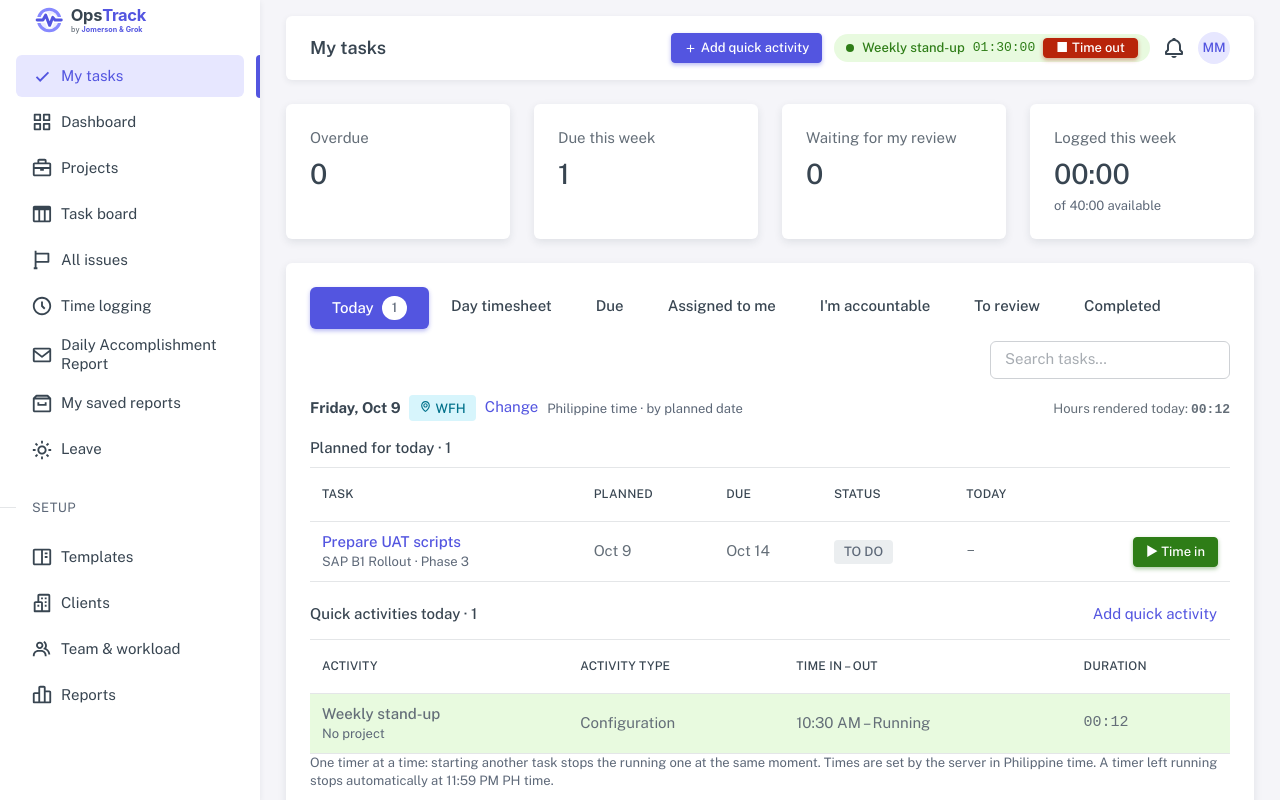
FR-ACT-26: Switch prompt › Cancel keeps the running timer and sends nothing
Click the button with aria-label "Time in on Prepare UAT scripts" at (1176, 552), box [1133,536,1218,566]
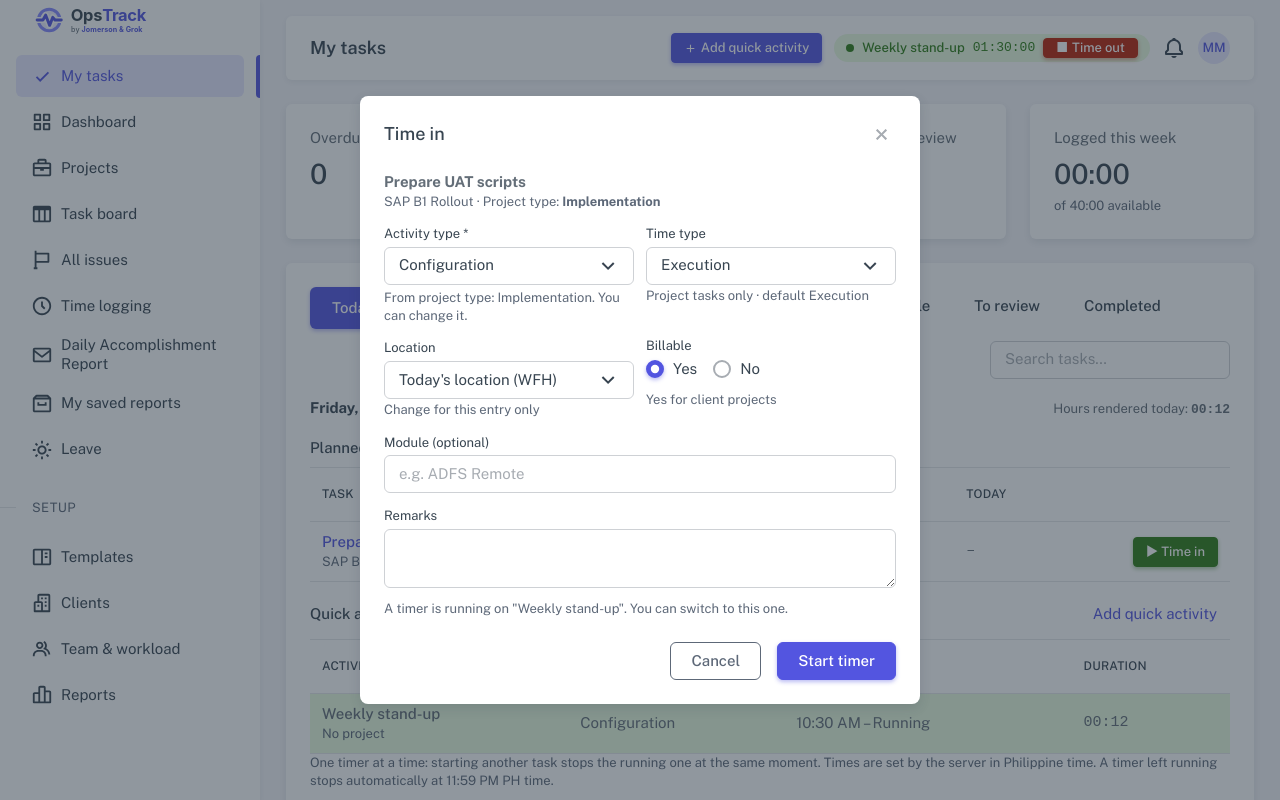
Click the button "Start timer" at (837, 661), box [777,642,896,680]
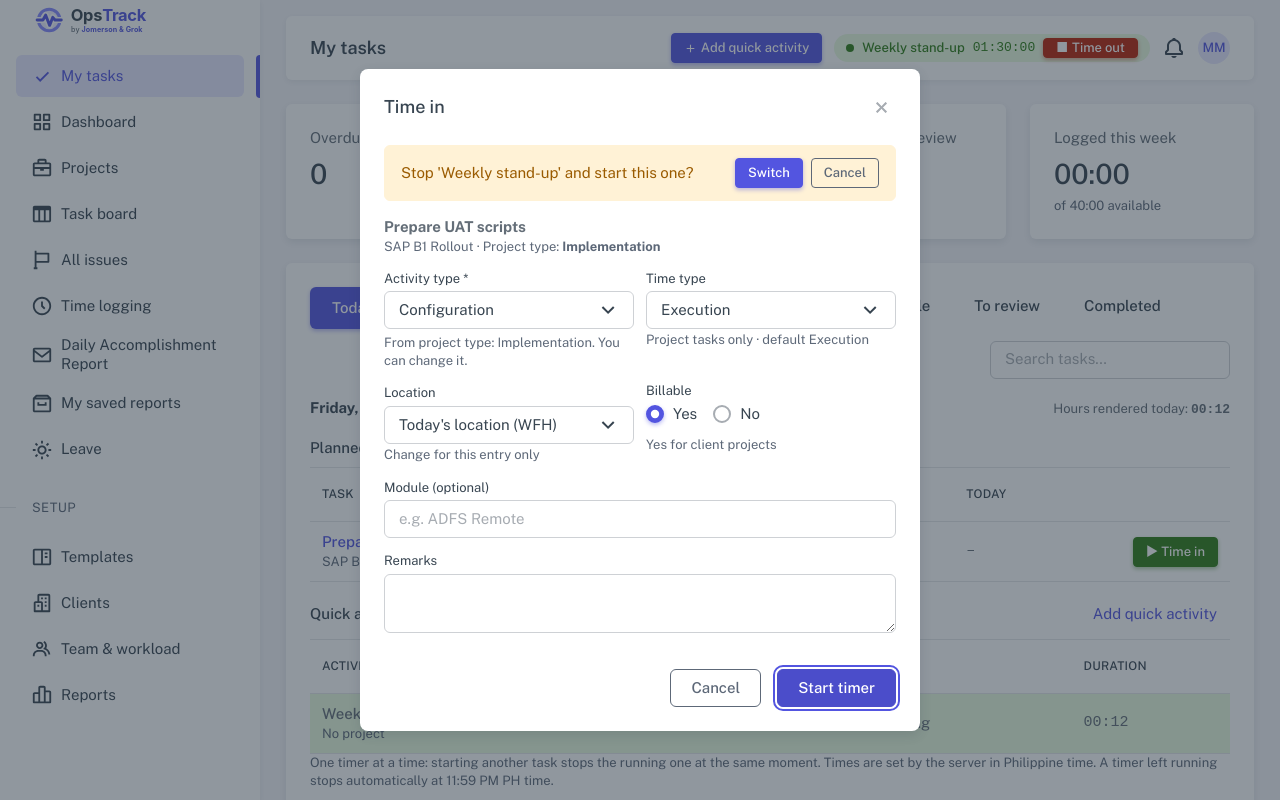
Click the 1st button "Cancel" at (845, 173), box [811,158,879,188]
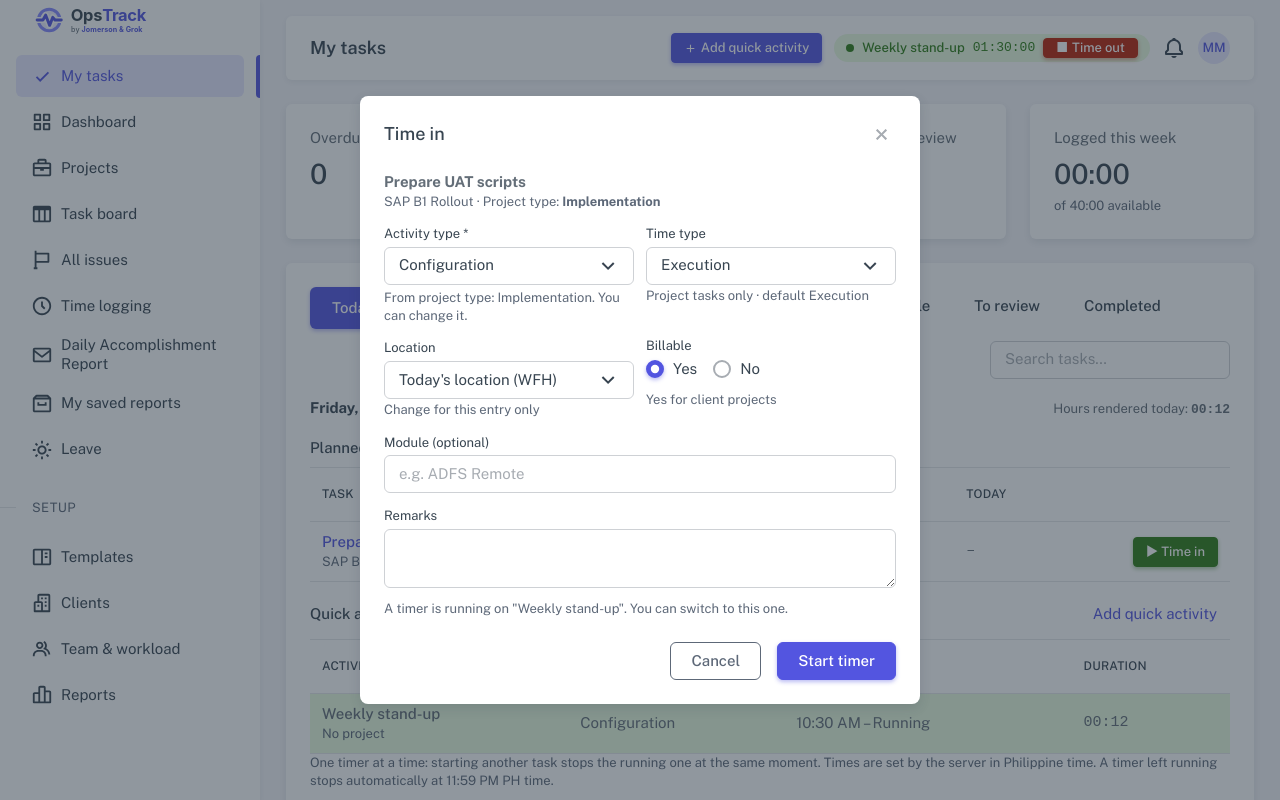
Expected: the dialog "Stop 'Weekly stand-up' and start this one? Switch Cancel" is gone
